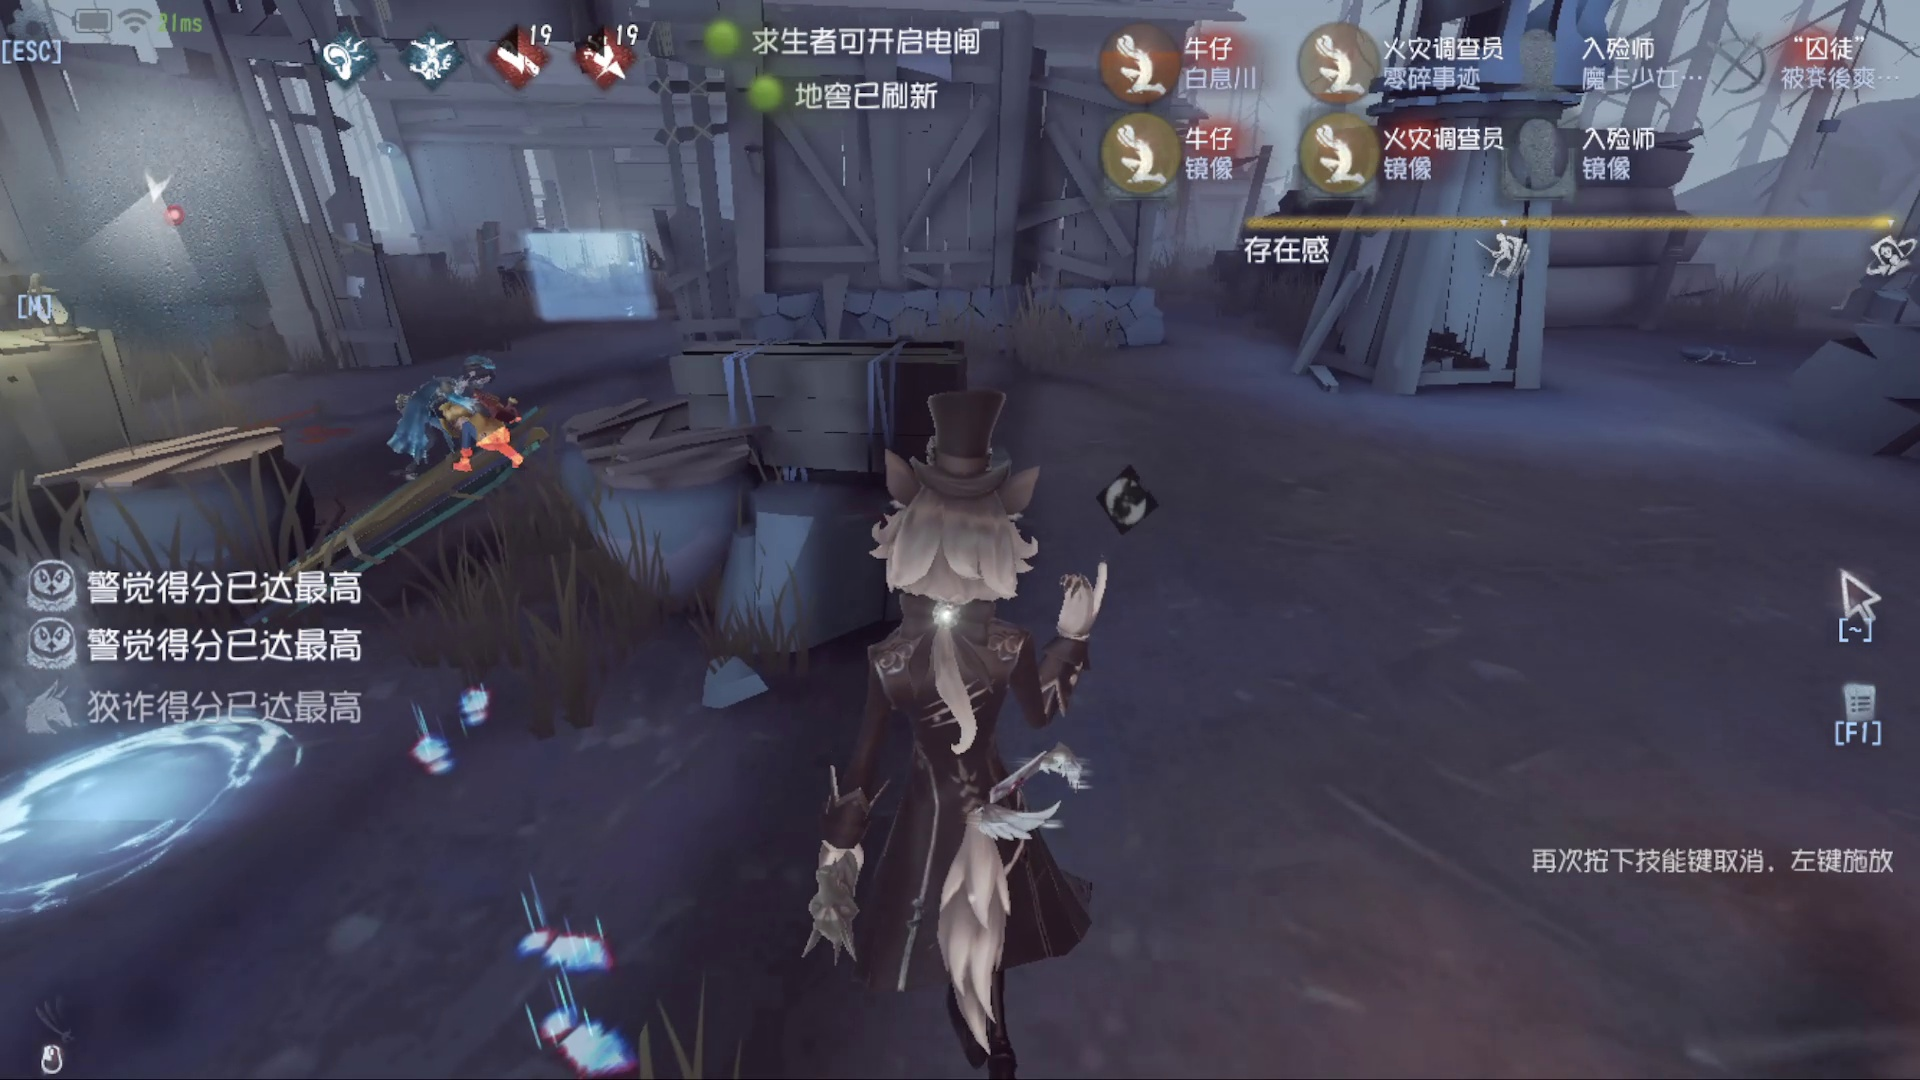求生者: (262, 450, 576, 609), (373, 371, 542, 456)
